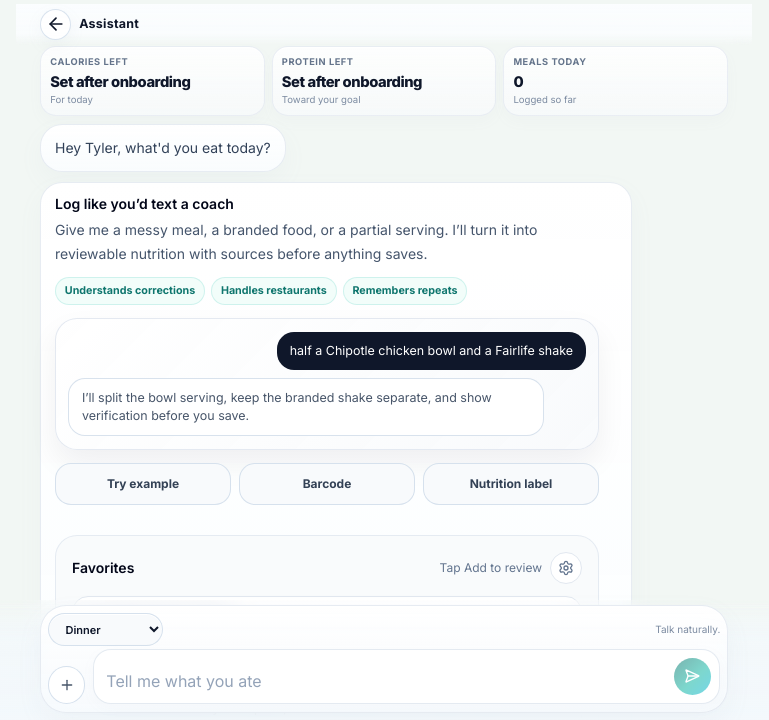
Test case: meal logger client › shows only the assistant reply from the conversational route for greetings
This screenshot has width=769, height=720.
Type "hi" into the text box with placeholder "Tell me what you ate".
click(386, 682); type("hi")  # box left=106, top=668, right=666, bottom=696
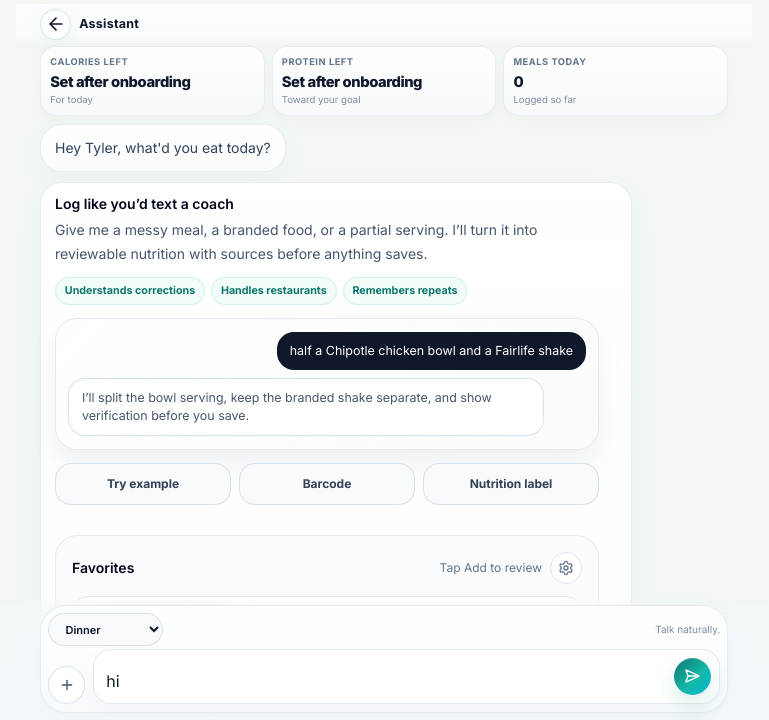
Click the button named "Send meal".
click(692, 677)  # box left=674, top=658, right=711, bottom=696
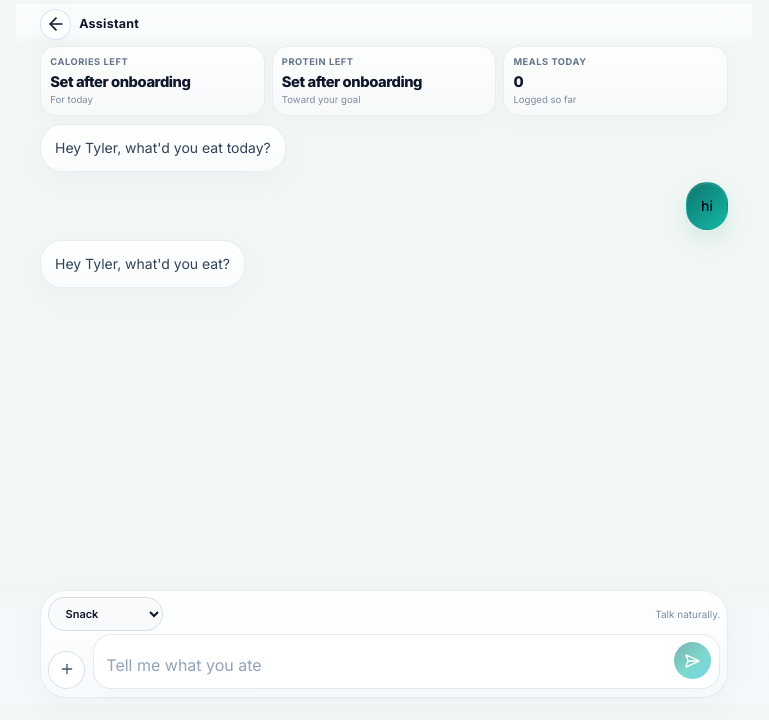
Expected: the text "Hey Tyler, what'd you eat?" is shown, left=55, top=252, right=230, bottom=276
